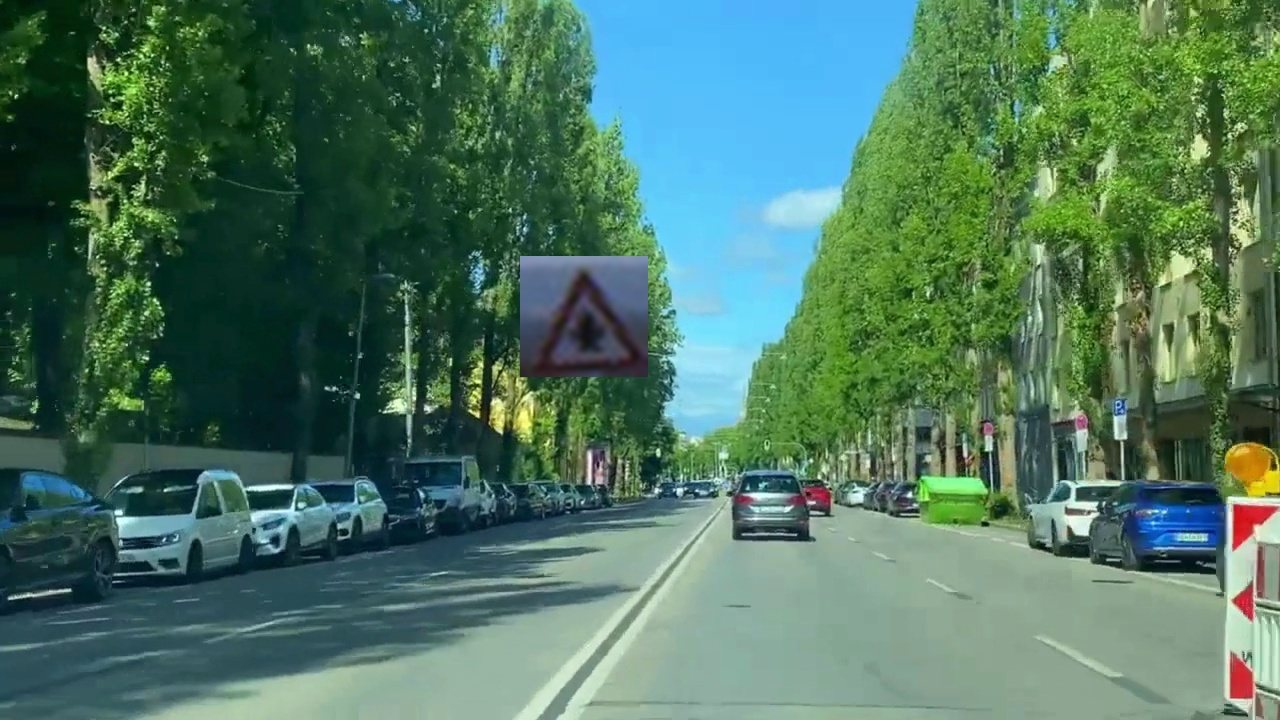Right-of-way: (520, 256, 648, 377)
